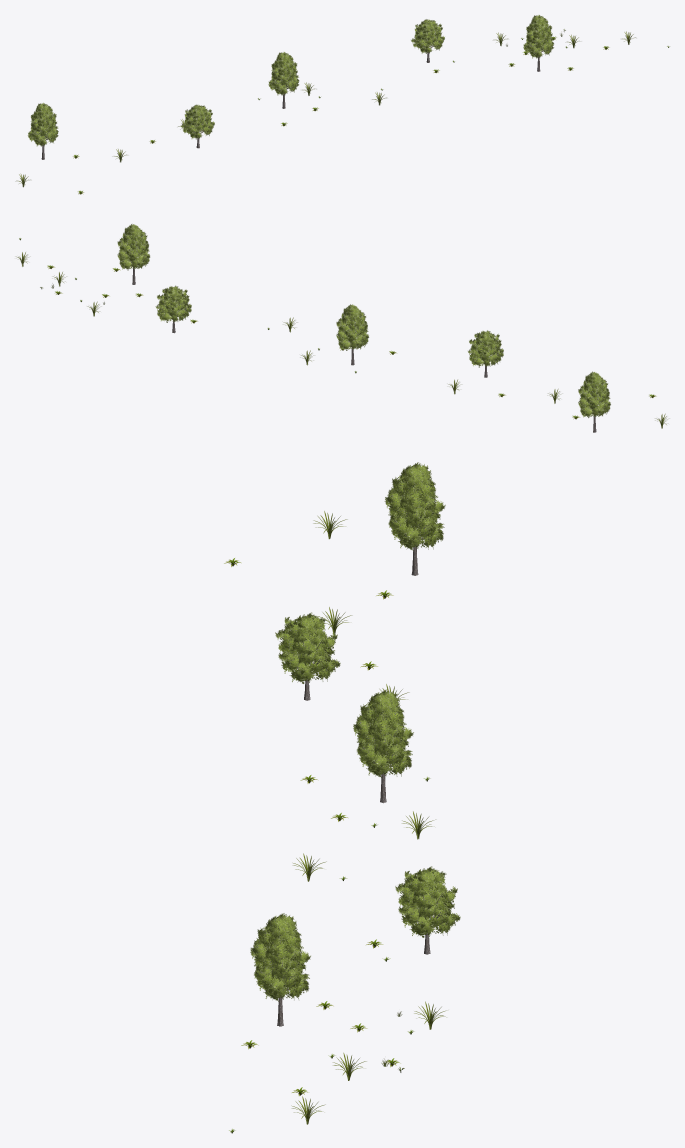
File: Salones-Plant_.glb
The picture shows the model from 3 angles, top to bottom: view 1: azimuth 30°, elevation 25°; view 2: azimuth 150°, elevation 25°; view 3: azimuth 270°, elevation 25°; orthographic projection. The views are drawn at different scales.
Visible parts, largest first — view 1: Short_Tree0, Plant_Grass1_Plant_Texture_0; view 2: Short_Tree0, Plant_Grass1_Plant_Texture_0; view 3: Short_Tree0, Plant_Grass1_Plant_Texture_0.
Boxes of the visible parts, box(x1,y1,x2,y2) form: Short_Tree0: box(28, 15, 553, 159); Plant_Grass1_Plant_Texture_0: box(16, 29, 669, 194); Short_Tree0: box(117, 224, 610, 432); Plant_Grass1_Plant_Texture_0: box(16, 238, 667, 428); Short_Tree0: box(250, 462, 460, 1026); Plant_Grass1_Plant_Texture_0: box(224, 511, 446, 1133).
Size of the model in its own units: 0.7033 by 0.0621 by 0.1153.
3 materials, 3 textured.
